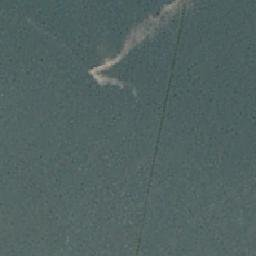debris: (89, 64, 126, 85), (128, 20, 165, 40), (112, 42, 146, 61), (152, 3, 179, 17)
